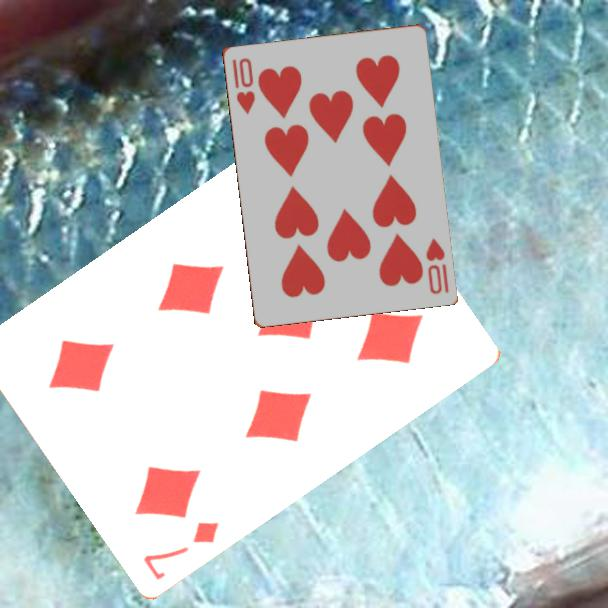d07: (140, 517, 222, 583)
h10: (422, 235, 452, 297), (229, 54, 258, 117)
